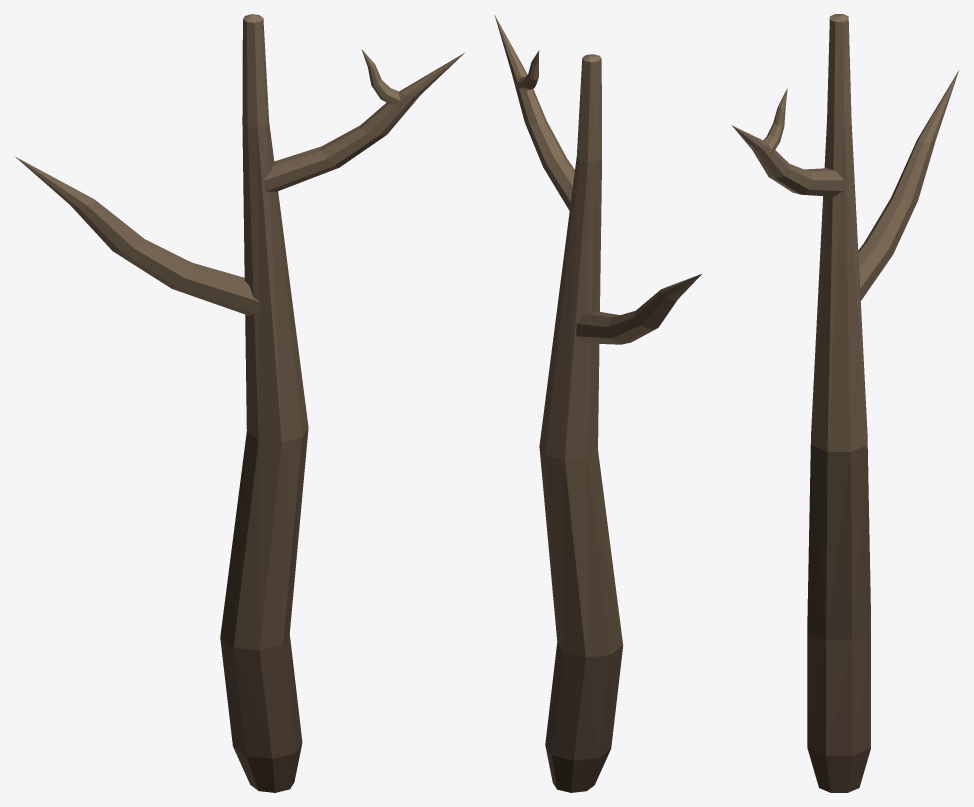
Rendered from DressDeadTreeB.glb.
3 renders of one model, left to right at view 1: azimuth 30°, elevation 25°; view 2: azimuth 150°, elevation 25°; view 3: azimuth 270°, elevation 25°, orthographic. The views are drawn at different scales.
Parts seen in each view (by area): view 1: DressDeadTreeB; view 2: DressDeadTreeB; view 3: DressDeadTreeB.
Boxes of the visible parts, x1,y1,x2,y2 form: DressDeadTreeB: (15, 14, 464, 792); DressDeadTreeB: (494, 15, 701, 792); DressDeadTreeB: (732, 14, 958, 792).
Size of the model in its own units: 2.73 by 6 by 1.63.
